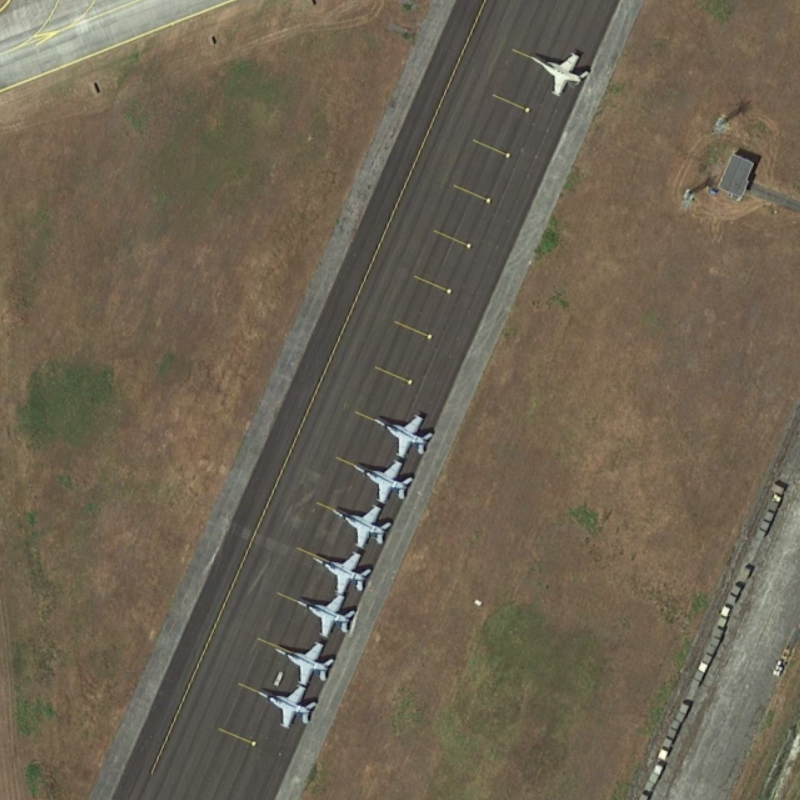A16: (522, 44, 597, 99), (326, 496, 396, 550), (370, 407, 437, 461), (270, 638, 340, 689), (253, 677, 320, 730), (349, 455, 420, 505), (305, 544, 376, 594), (287, 591, 359, 635)
